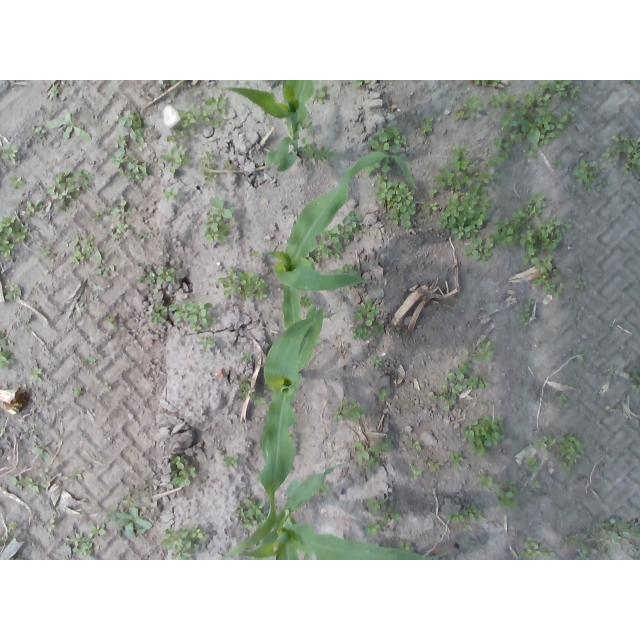Maize: (223, 305, 341, 560), (263, 148, 417, 328), (246, 465, 462, 560), (221, 80, 315, 172)
Weeds: (487, 90, 577, 158), (303, 209, 365, 264), (437, 192, 496, 240), (374, 174, 416, 231), (46, 167, 96, 211), (430, 360, 470, 412), (460, 414, 506, 457), (433, 148, 477, 191), (200, 197, 237, 248), (486, 209, 531, 248), (217, 268, 268, 301), (600, 134, 640, 175), (161, 525, 207, 560), (168, 301, 216, 334), (531, 254, 566, 299), (532, 214, 572, 253), (107, 506, 154, 539), (365, 497, 404, 535), (107, 149, 149, 184), (45, 112, 92, 142), (352, 299, 385, 341), (0, 213, 30, 259), (598, 513, 640, 543), (353, 441, 393, 472), (367, 126, 408, 155), (472, 157, 505, 192), (233, 498, 269, 530), (177, 105, 224, 129), (117, 111, 145, 149), (557, 434, 584, 472), (299, 137, 338, 162), (170, 455, 197, 490), (160, 143, 191, 173), (537, 80, 580, 101), (331, 398, 366, 422), (461, 235, 493, 261), (455, 95, 485, 122), (65, 533, 96, 559), (494, 479, 519, 511), (571, 159, 599, 187), (136, 264, 175, 284), (70, 234, 94, 266), (520, 229, 541, 264), (94, 247, 115, 277), (199, 151, 217, 185), (523, 192, 546, 218), (517, 536, 541, 560), (363, 155, 393, 174), (474, 339, 498, 361), (310, 81, 331, 106), (476, 470, 501, 491), (532, 435, 557, 454), (518, 299, 535, 326), (107, 222, 129, 242), (204, 96, 227, 115), (465, 375, 493, 390), (149, 302, 167, 324), (2, 283, 23, 301), (239, 375, 254, 400), (629, 361, 640, 395), (0, 347, 16, 370), (110, 201, 134, 216), (464, 506, 485, 523), (2, 143, 18, 165), (332, 264, 359, 277), (594, 540, 612, 559), (299, 118, 316, 138), (247, 390, 268, 406), (524, 454, 540, 474), (220, 453, 240, 469), (562, 534, 582, 550), (165, 128, 187, 142), (28, 365, 45, 383), (9, 175, 28, 191), (33, 446, 52, 462), (197, 335, 216, 351), (451, 450, 466, 470), (163, 187, 181, 203), (446, 509, 466, 523), (24, 477, 40, 494), (25, 200, 43, 215), (575, 541, 589, 560), (396, 539, 414, 553), (317, 482, 333, 496), (38, 470, 51, 487), (299, 296, 316, 309), (471, 81, 502, 88), (88, 524, 106, 536), (409, 466, 427, 478), (375, 389, 389, 404), (9, 475, 24, 489), (407, 438, 423, 451), (423, 117, 434, 135), (69, 468, 83, 481), (427, 460, 442, 472), (573, 347, 585, 362), (423, 201, 438, 212), (371, 355, 383, 368), (106, 316, 118, 329), (552, 158, 565, 170), (31, 126, 47, 135), (137, 231, 151, 241), (598, 405, 612, 415), (352, 81, 371, 88), (531, 479, 542, 491), (73, 386, 85, 397), (557, 392, 569, 403), (574, 281, 587, 291), (0, 330, 8, 346), (48, 519, 57, 533), (241, 350, 251, 362), (122, 497, 136, 505), (86, 353, 95, 365), (51, 85, 61, 95), (39, 245, 49, 255), (1, 535, 8, 549), (541, 551, 555, 558), (248, 249, 260, 257), (427, 188, 437, 197), (93, 212, 103, 221), (223, 161, 233, 169), (7, 521, 17, 529), (5, 556, 24, 560), (479, 400, 489, 407), (461, 525, 471, 532), (627, 80, 636, 85), (458, 296, 465, 301)
